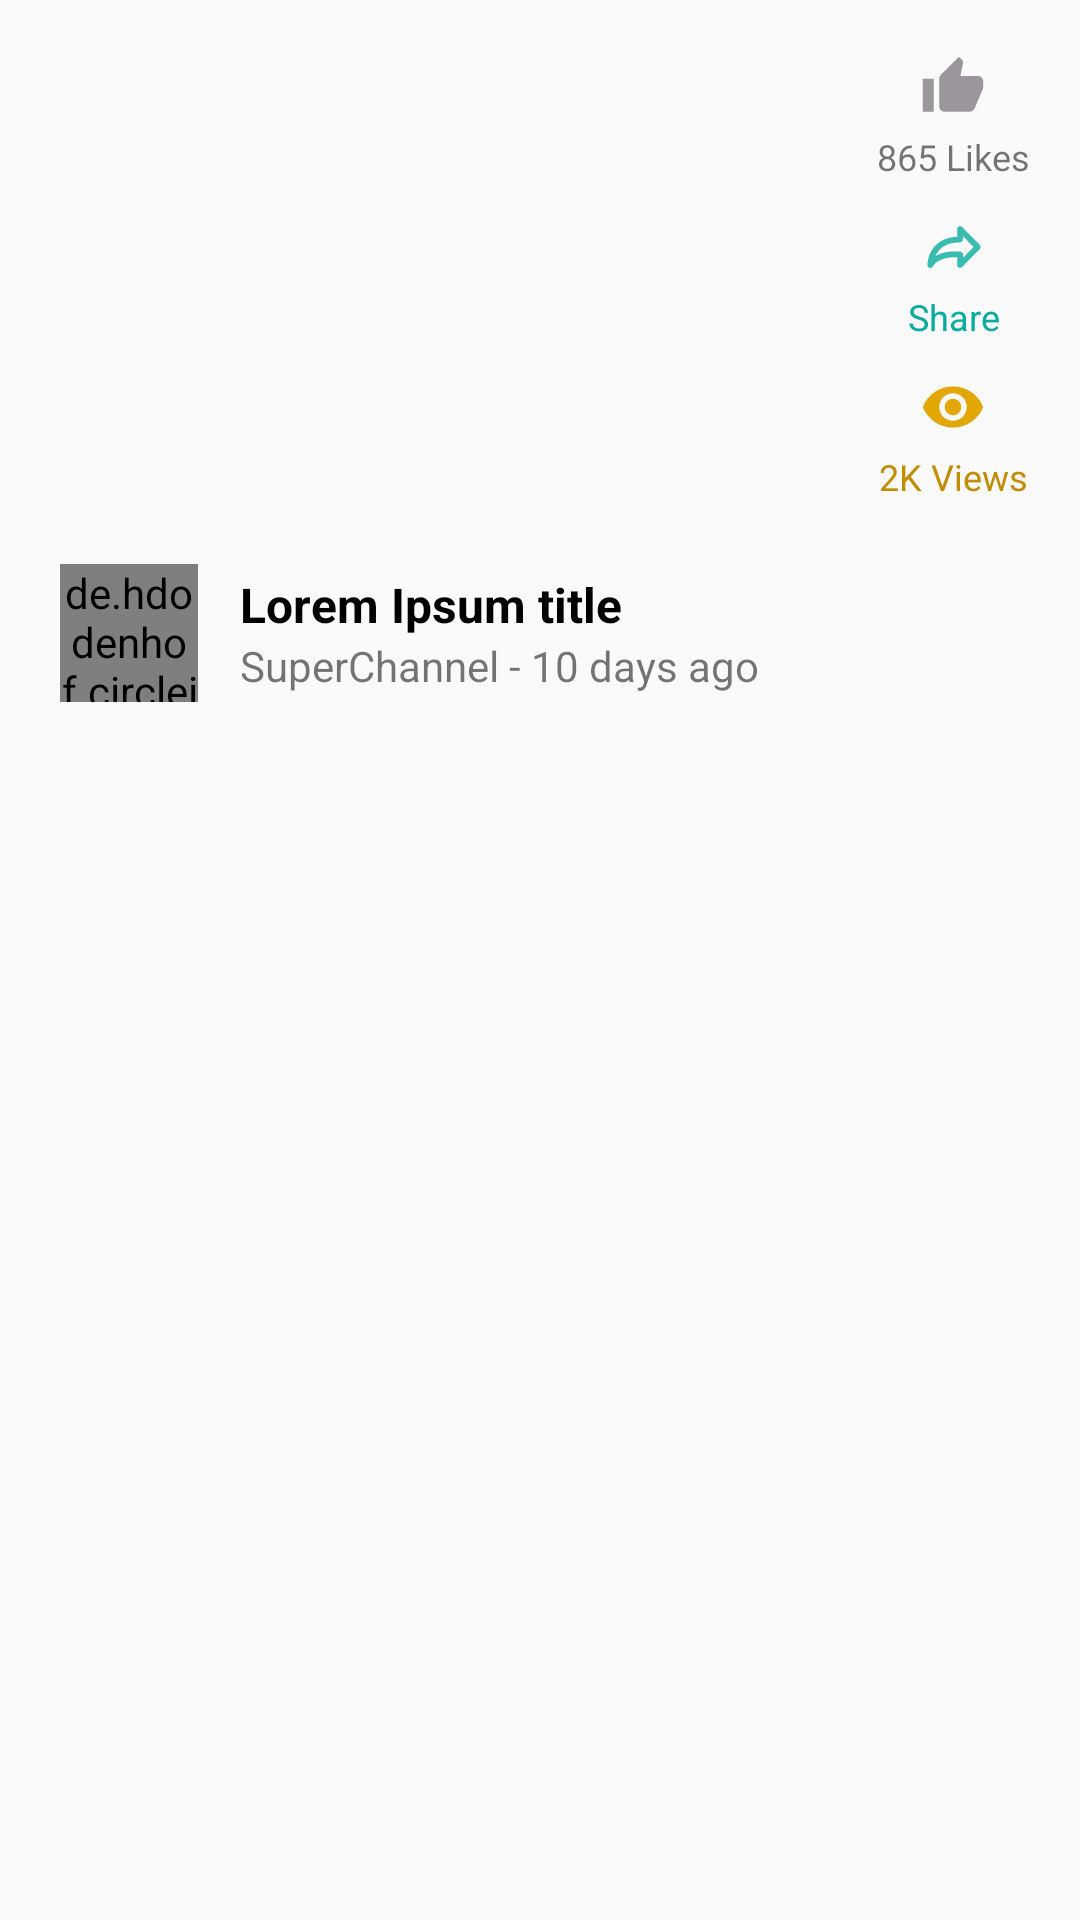

Named icons in this screenshot (1080px x 1920px) and their bounding boxes, (x1, y1, x2, y2):
eye: (923, 386, 983, 428)
thumb up: (922, 57, 984, 112)
